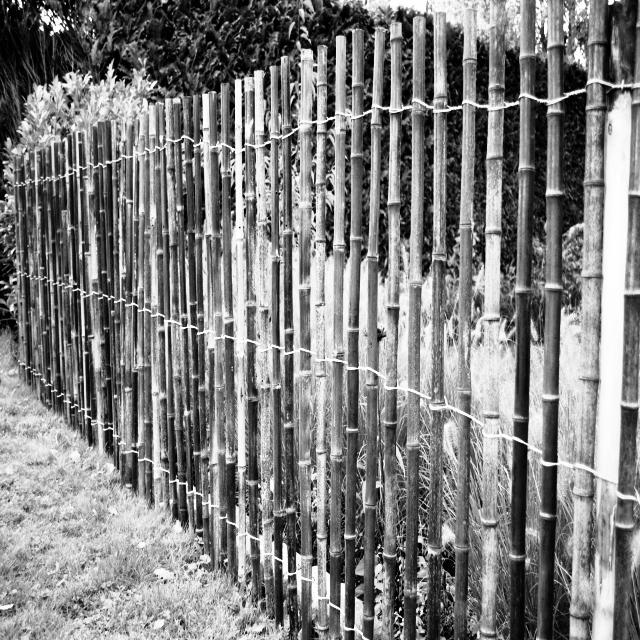fences: (27, 8, 640, 494)
